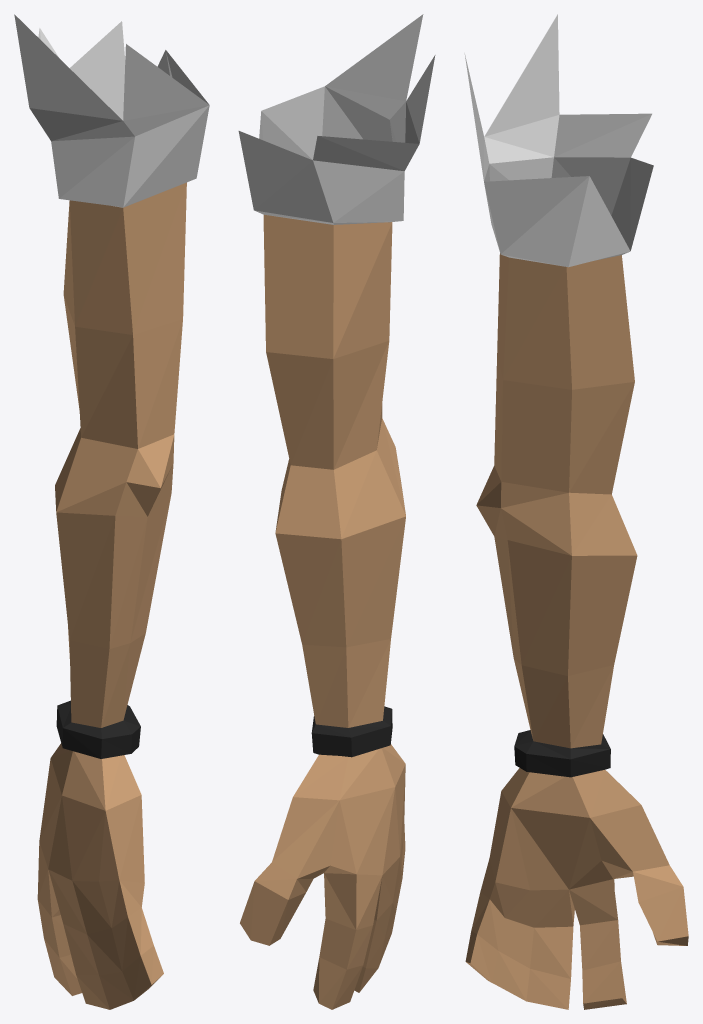
The model's file is ArmL.obj.
3 views of the same model, side by side, from view 1: azimuth 30°, elevation 25°; view 2: azimuth 150°, elevation 25°; view 3: azimuth 270°, elevation 25° (orthographic). The views are drawn at different scales.
Size of the model in its own units: 0.1602 by 0.892 by 0.1892.
1 material, 1 textured.
